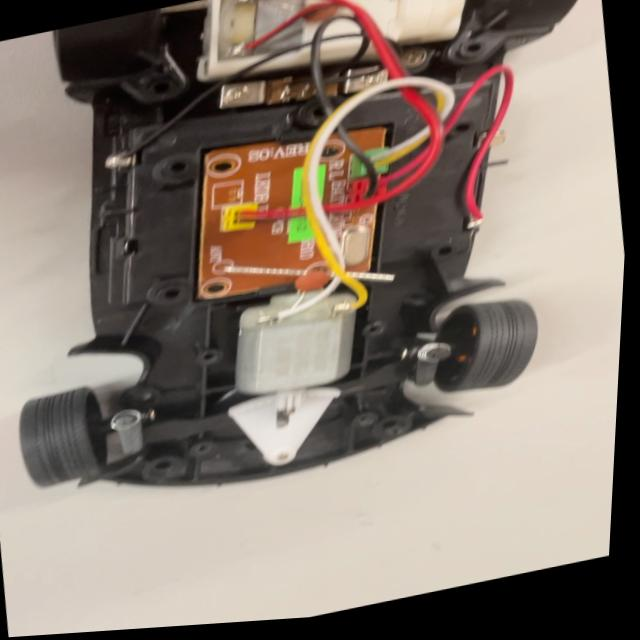motor: (213, 270, 387, 426)
wheel: (2, 374, 140, 500), (424, 289, 560, 408)
